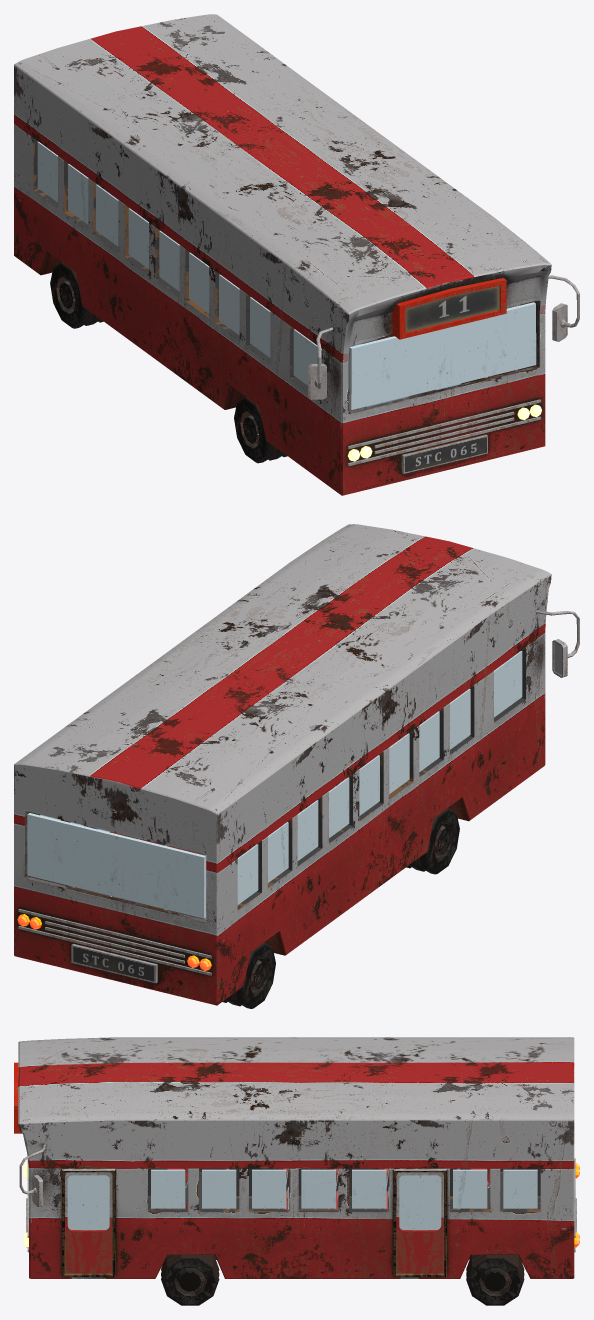
File: Bus_Model_Textured_forUnity.fbx
3 renders of one model, top to bottom at view 1: azimuth 30°, elevation 25°; view 2: azimuth 150°, elevation 25°; view 3: azimuth 270°, elevation 25°, orthographic. The views are drawn at different scales.
Parts seen in each view (by area): view 1: Exterior, Window, bus_name, Exterior_grills, interior, wheel4, wheel, side_mirror_right, side_mirror_left; view 2: Exterior, Window, Exterior_grills, interior, wheel, wheel4, side_mirror_right; view 3: Exterior, Window, Front_door, Back_door, interior, wheel4, wheel, side_mirror_left, Exterior_grills, bus_name.
Part boxes in pixels (x1,y1,x2,y2): Exterior: (14, 14, 551, 495); Window: (37, 141, 536, 409); bus_name: (390, 278, 506, 339); Exterior_grills: (348, 399, 541, 473); interior: (33, 138, 536, 400); wheel4: (50, 262, 103, 328); wheel: (234, 396, 287, 463); side_mirror_right: (308, 327, 333, 399); side_mirror_left: (548, 275, 579, 341); Exterior: (14, 524, 551, 1005); Window: (27, 651, 522, 918); Exterior_grills: (18, 909, 211, 983); interior: (27, 647, 525, 918); wheel: (406, 808, 459, 874); wheel4: (222, 942, 275, 1008); side_mirror_right: (536, 610, 579, 677); Exterior: (18, 1037, 574, 1278); Window: (151, 1169, 537, 1208); Front_door: (62, 1168, 115, 1276); Back_door: (393, 1168, 446, 1276); interior: (148, 1168, 540, 1211); wheel4: (466, 1255, 524, 1305); wheel: (161, 1255, 219, 1305); side_mirror_left: (19, 1144, 45, 1206); Exterior_grills: (26, 1158, 576, 1252); bus_name: (14, 1062, 21, 1133).
Size of the model in its own units: 432 by 372 by 975.
